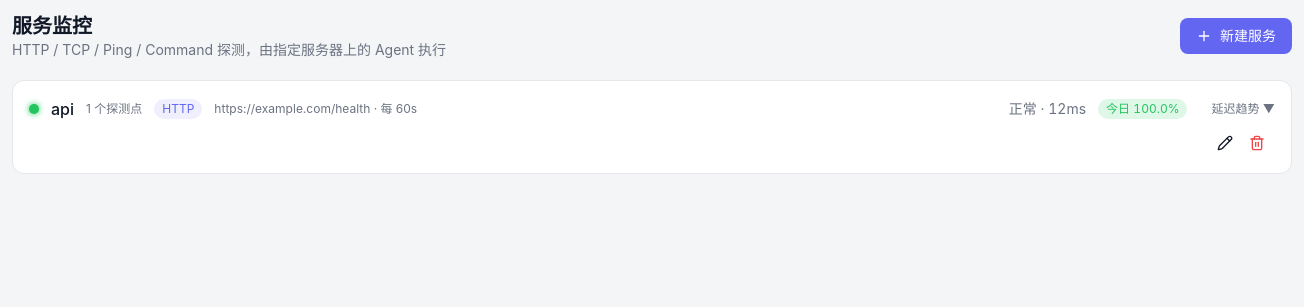
Test case: Services page — delay quantile stats › shows — for all quantile stats when samples are missing (null)
Click the text "api".
click(62, 109)  # box [51, 97, 74, 121]
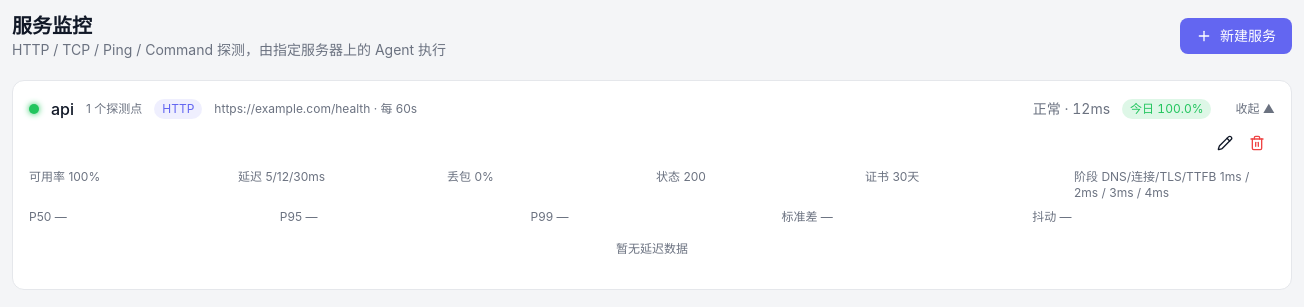
Expected: the text "P50 —" is shown, [29, 209, 67, 224]
Expected: the text "P95 —" is shown, [280, 209, 317, 224]
Expected: the text "P99 —" is shown, [531, 209, 568, 224]
